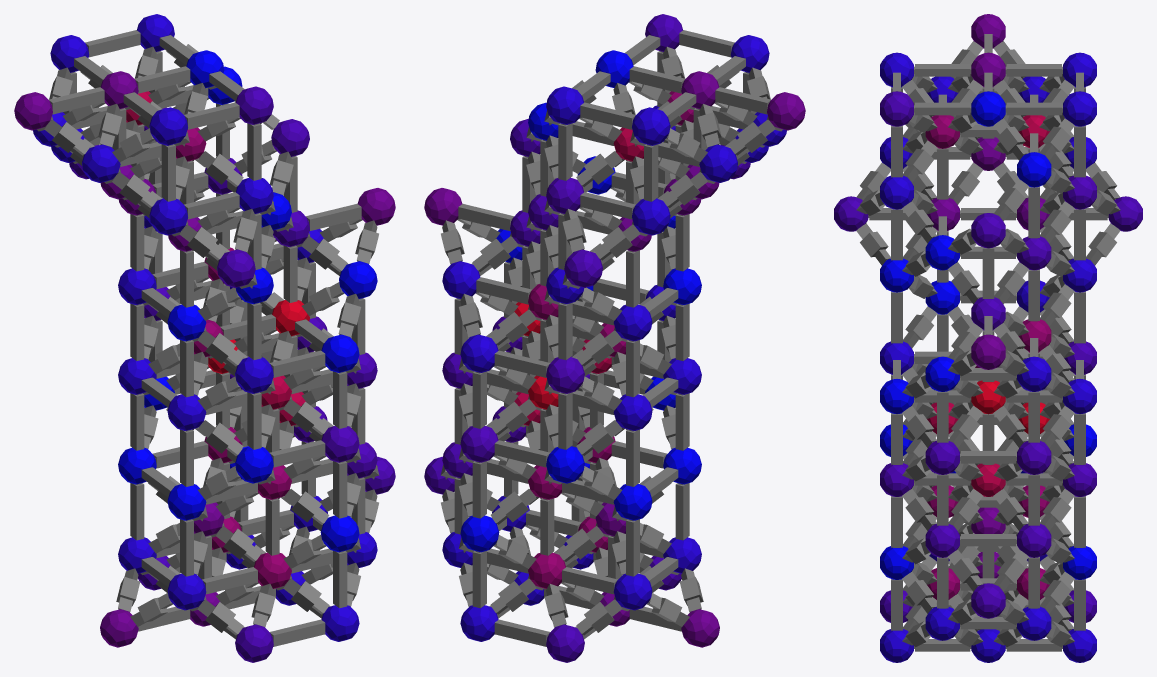
Rendered from fake_energy_1500_10000(use_stick).obj.
3 renders of one model, left to right at view 1: azimuth 30°, elevation 25°; view 2: azimuth 150°, elevation 25°; view 3: azimuth 270°, elevation 25°, orthographic. The views are drawn at different scales.
Size of the model in its own units: 207 by 301 by 160.
